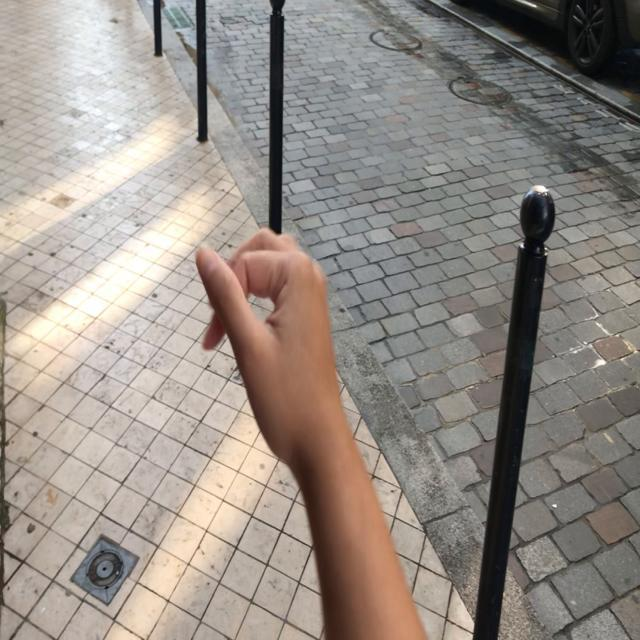no-gloves: (190, 224, 338, 460)
